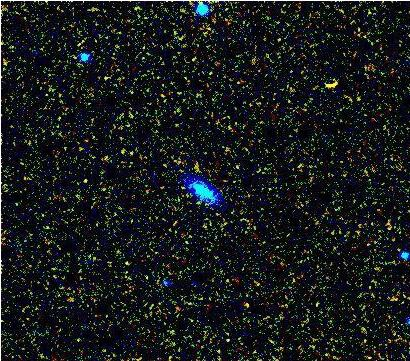star: (315, 72, 345, 102)
